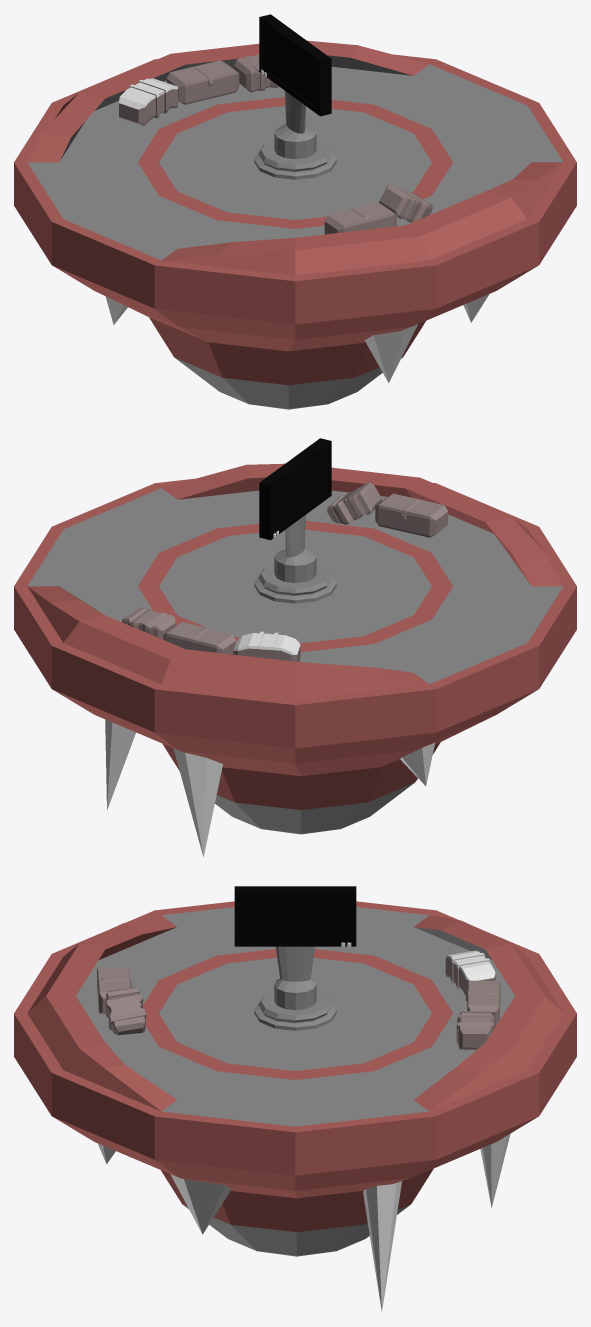
The model's file is Train Launch Control blend.fbx.
3 renders of one model, top to bottom at view 1: azimuth 30°, elevation 25°; view 2: azimuth 150°, elevation 25°; view 3: azimuth 270°, elevation 25°, orthographic.
Parts seen in each view (by area): view 1: Train launch control Platform, Chest Model A.001, controle Panel, Ice, Chest Model B Cap; view 2: Train launch control Platform, Chest Model A.001, Ice, controle Panel, Chest Model B Cap; view 3: Train launch control Platform, controle Panel, Ice, Chest Model A.001, Chest Model B Cap.
Boxes of the visible parts, left/top/right/bottom form: Train launch control Platform: left=14, top=40, right=576, bottom=409; Chest Model A.001: left=119, top=53, right=433, bottom=234; controle Panel: left=259, top=14, right=331, bottom=116; Ice: left=105, top=294, right=489, bottom=382; Chest Model B Cap: left=119, top=78, right=178, bottom=109; Train launch control Platform: left=14, top=463, right=576, bottom=834; Chest Model A.001: left=122, top=482, right=447, bottom=661; Ice: left=105, top=719, right=434, bottom=857; controle Panel: left=259, top=438, right=331, bottom=540; Chest Model B Cap: left=233, top=631, right=300, bottom=654; Train launch control Platform: left=14, top=901, right=576, bottom=1256; controle Panel: left=234, top=886, right=356, bottom=946; Ice: left=97, top=1133, right=510, bottom=1311; Chest Model A.001: left=97, top=957, right=500, bottom=1049; Chest Model B Cap: left=445, top=950, right=495, bottom=980.
Bounding box in the file's own units: 9.27 × 6.73 × 9.27.
